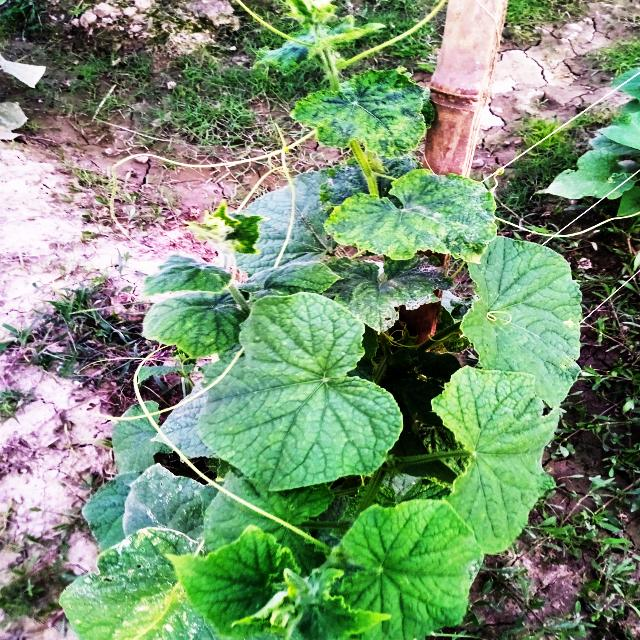Fresh-Leaf: (194, 293, 403, 493), (334, 500, 486, 640)
